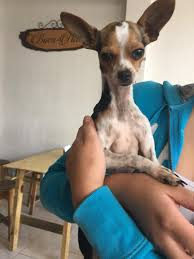chihuahua: (51, 1, 194, 211)
